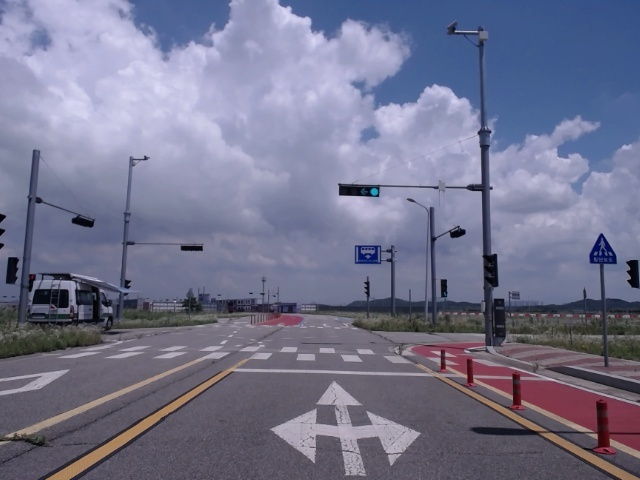all_green_4: (339, 184, 380, 197)
